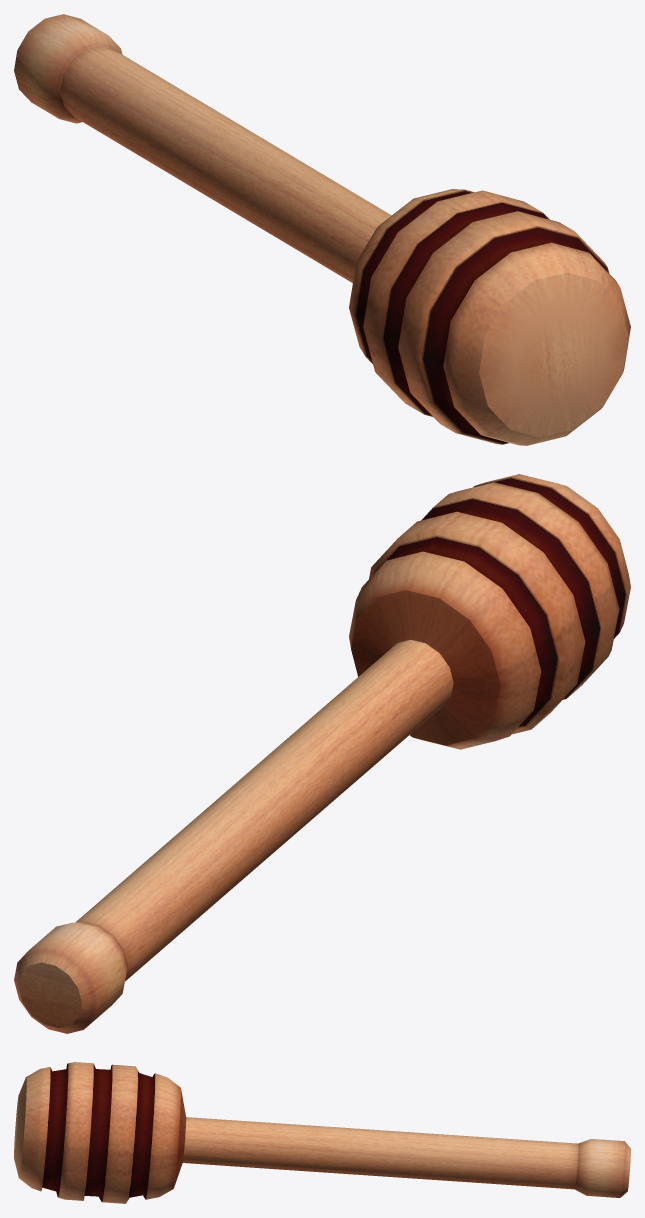
The model's file is Honey_Dipper.fbx.
3 renders of one model, top to bottom at view 1: azimuth 30°, elevation 25°; view 2: azimuth 150°, elevation 25°; view 3: azimuth 270°, elevation 25°, orthographic. The views are drawn at different scales.
Parts seen in each view (by area): view 1: Honey_Dipper; view 2: Honey_Dipper; view 3: Honey_Dipper.
Part boxes in pixels (x1=…): Honey_Dipper: x1=14, y1=14, x2=630, y2=445; Honey_Dipper: x1=14, y1=474, x2=630, y2=1033; Honey_Dipper: x1=14, y1=1062, x2=630, y2=1203.
Size of the model in its own units: 13.38 by 13.46 by 58.52.
